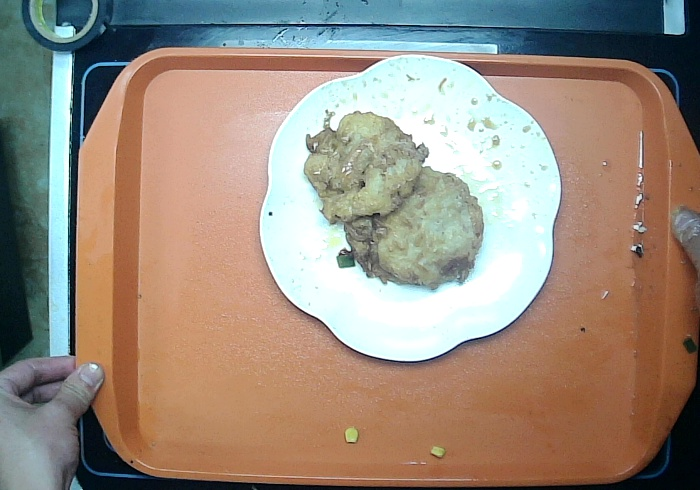HZYJPL-Bai_Se_Hua_Duo_Wan: (248, 38, 589, 378)
